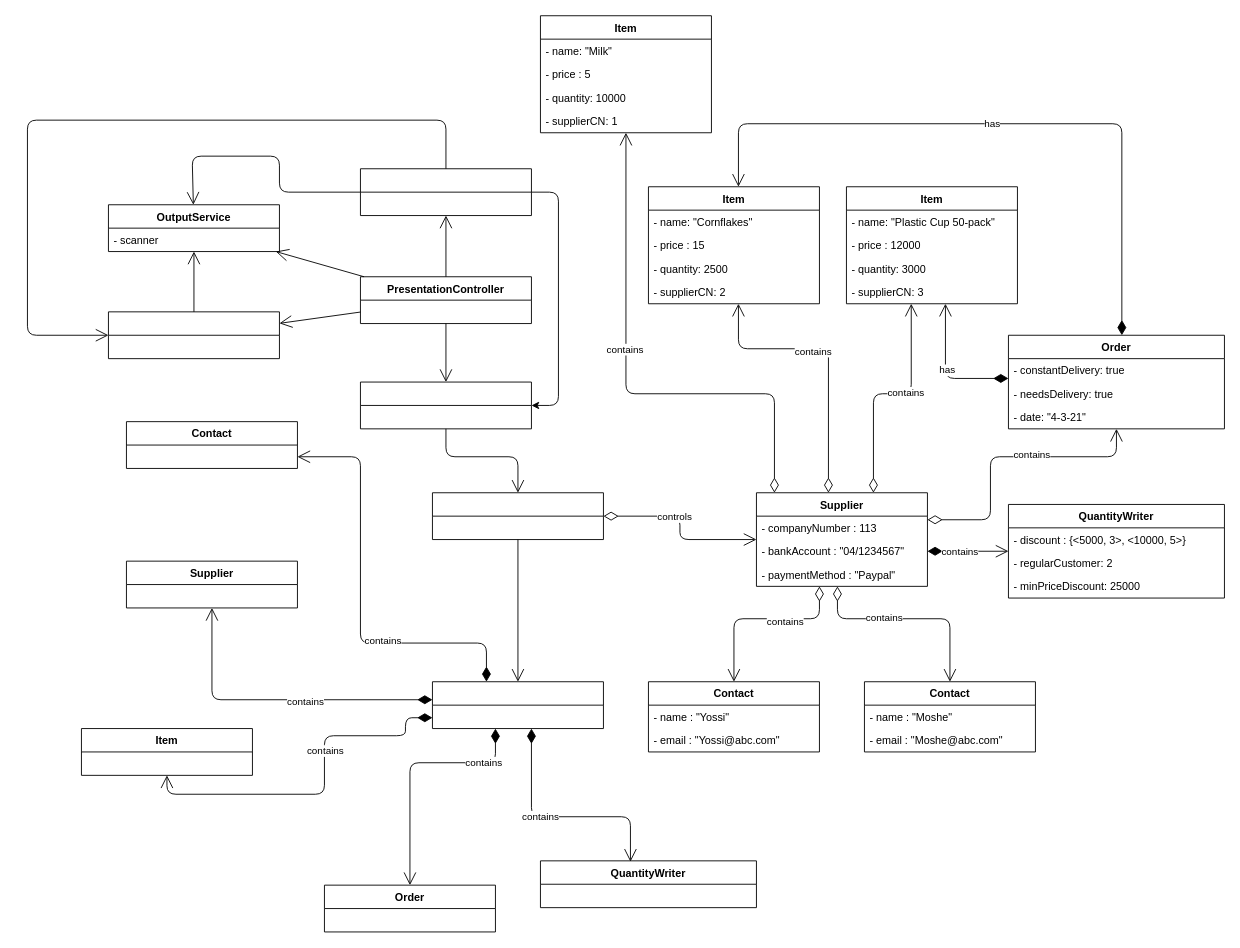
This 1240x948 diagram has some shape labels left out. The centre of each missing label's shape, as x and y in pixels:
DataController: (517,705)
InputService: (193,335)
PresentationHandler: (445,192)
ServiceController: (445,405)
SupplierController: (517,516)
